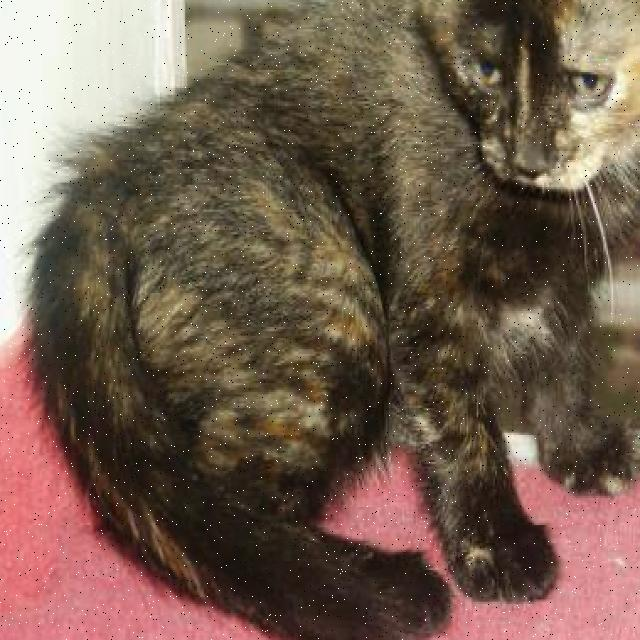Cat: (369, 0, 640, 241)
